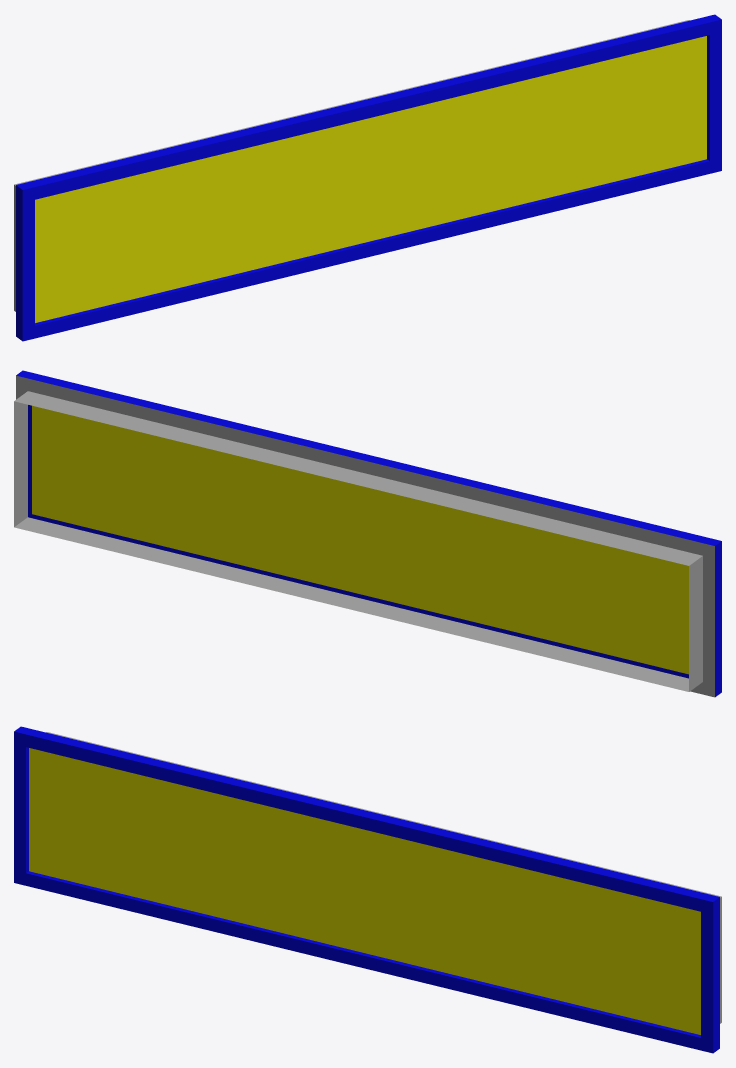
The model's file is Window6.fbx.
3 views of the same model, one above another, from view 1: azimuth 30°, elevation 25°; view 2: azimuth 150°, elevation 25°; view 3: azimuth 330°, elevation 25° (orthographic).
Parts seen in each view (by area): view 1: Window6; view 2: Window6; view 3: Window6.
Part boxes in pixels (x1,y1,x2,y2): Window6: [14, 14, 721, 341]; Window6: [14, 370, 721, 697]; Window6: [14, 726, 721, 1053].
Size of the model in its own units: 290 by 60 by 15.
